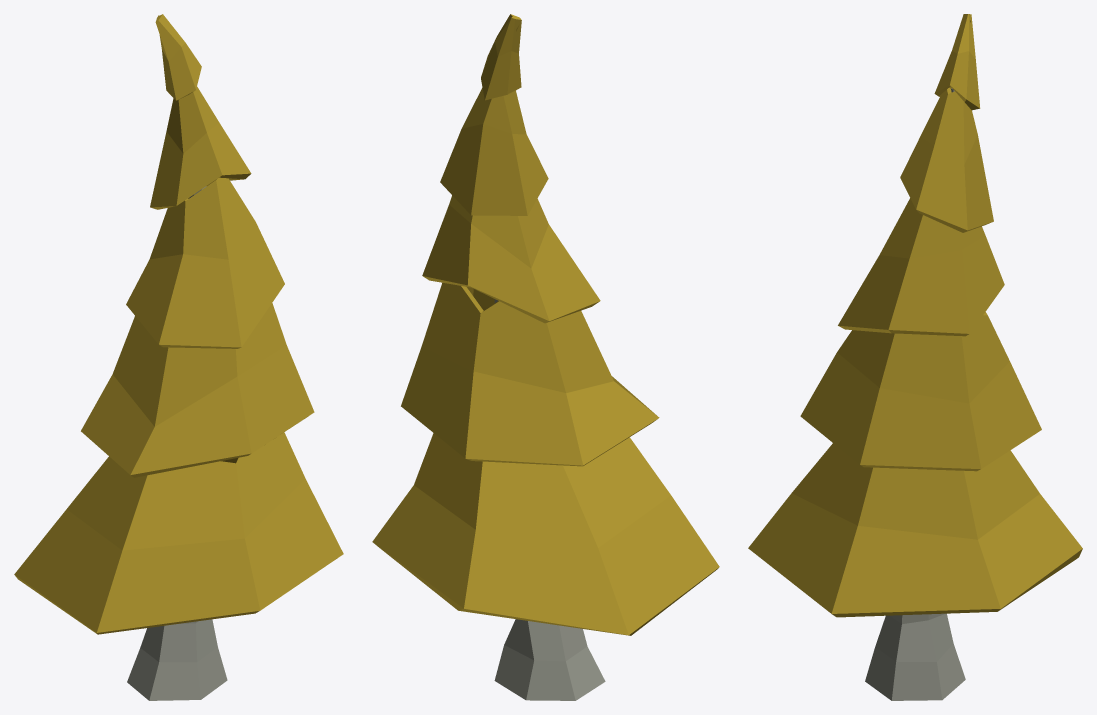
File: Tree_Pine4.fbx
The picture shows the model from 3 angles, left to right: view 1: azimuth 30°, elevation 25°; view 2: azimuth 150°, elevation 25°; view 3: azimuth 270°, elevation 25°; orthographic projection. The views are drawn at different scales.
Parts seen in each view (by area): view 1: Cylinder.012; view 2: Cylinder.012; view 3: Cylinder.012.
Boxes of the visible parts, x1=… form: Cylinder.012: x1=14, y1=14, x2=343, y2=700; Cylinder.012: x1=372, y1=14, x2=719, y2=700; Cylinder.012: x1=748, y1=14, x2=1082, y2=700.
Bounding box in the file's own units: 273 × 681 × 307.
